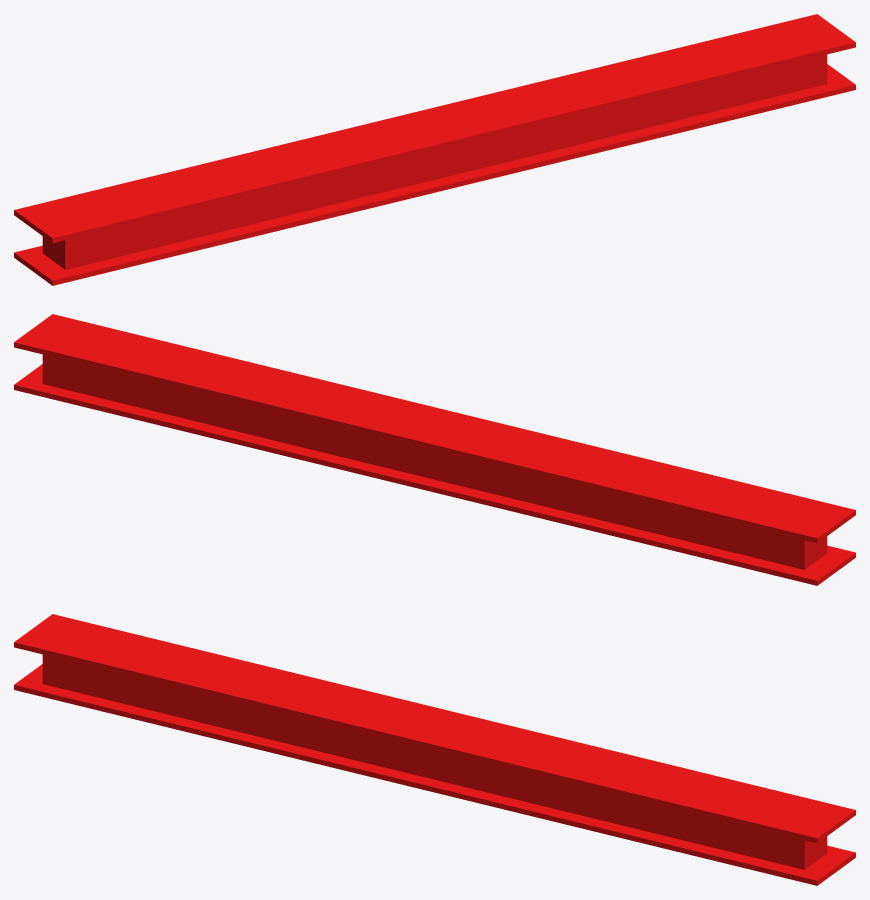
File: Beam02.fbx
3 views of the same model, one above another, from view 1: azimuth 30°, elevation 25°; view 2: azimuth 150°, elevation 25°; view 3: azimuth 330°, elevation 25° (orthographic).
Parts seen in each view (by area): view 1: Cube; view 2: Cube; view 3: Cube.
Boxes of the visible parts, x1,y1,x2,y2 form: Cube: (14,14,855,285); Cube: (14,314,855,585); Cube: (14,614,855,885).
Bounding box in the file's own units: 600 × 33.98 × 50.
